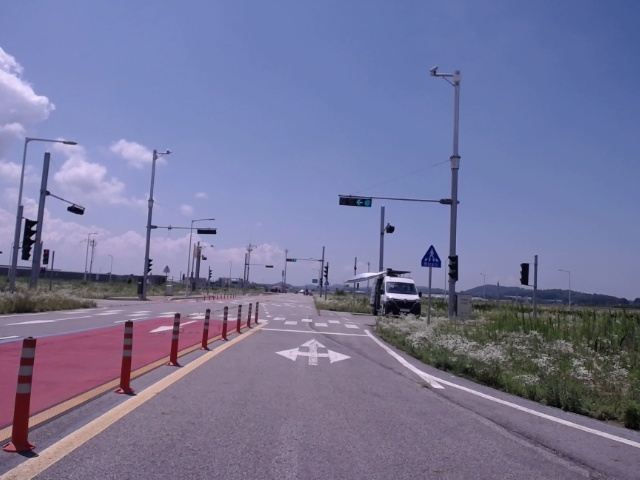all_green_4: (340, 195, 375, 205)
